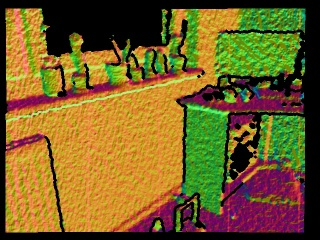station: (169, 193, 207, 233)
